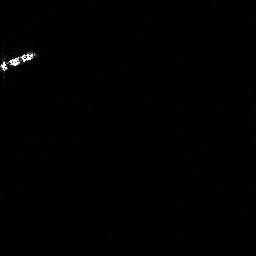ship: (1, 50, 35, 72)
